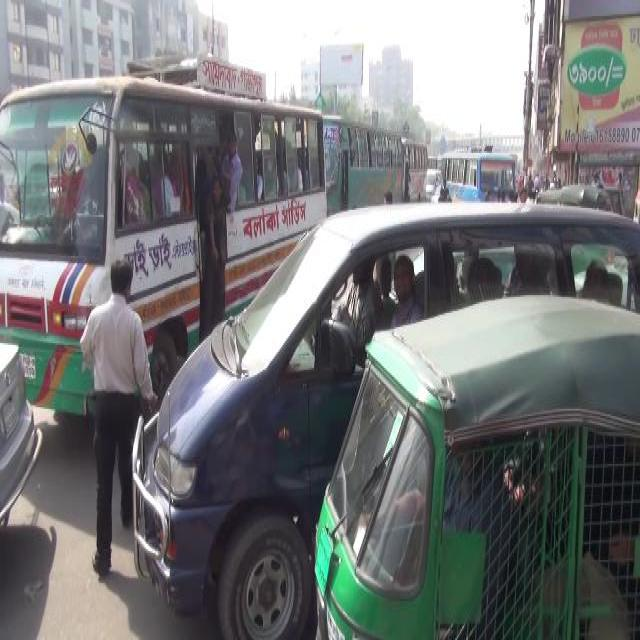bus: (0, 67, 328, 431), (322, 109, 402, 218), (442, 149, 516, 217), (403, 130, 427, 203), (426, 154, 439, 177)
car: (0, 342, 46, 540)
three wheelers -CNG-: (311, 292, 639, 636), (536, 183, 616, 229)
van: (133, 195, 639, 633), (424, 166, 440, 200)
